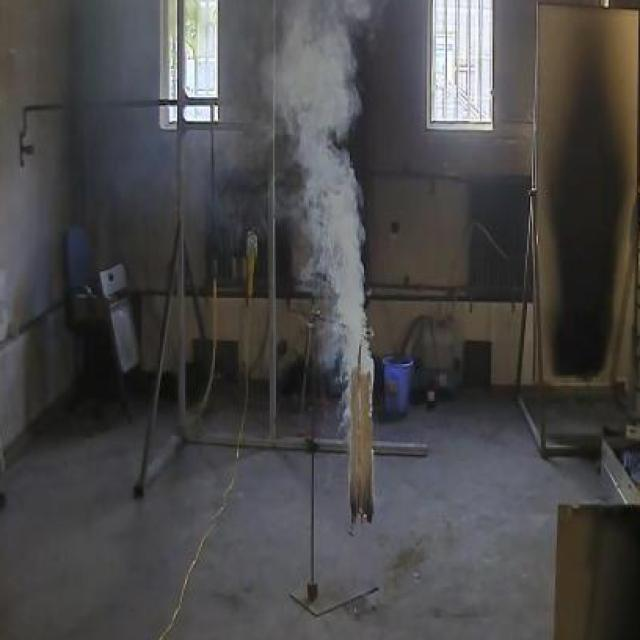fire: (270, 0, 383, 358)
